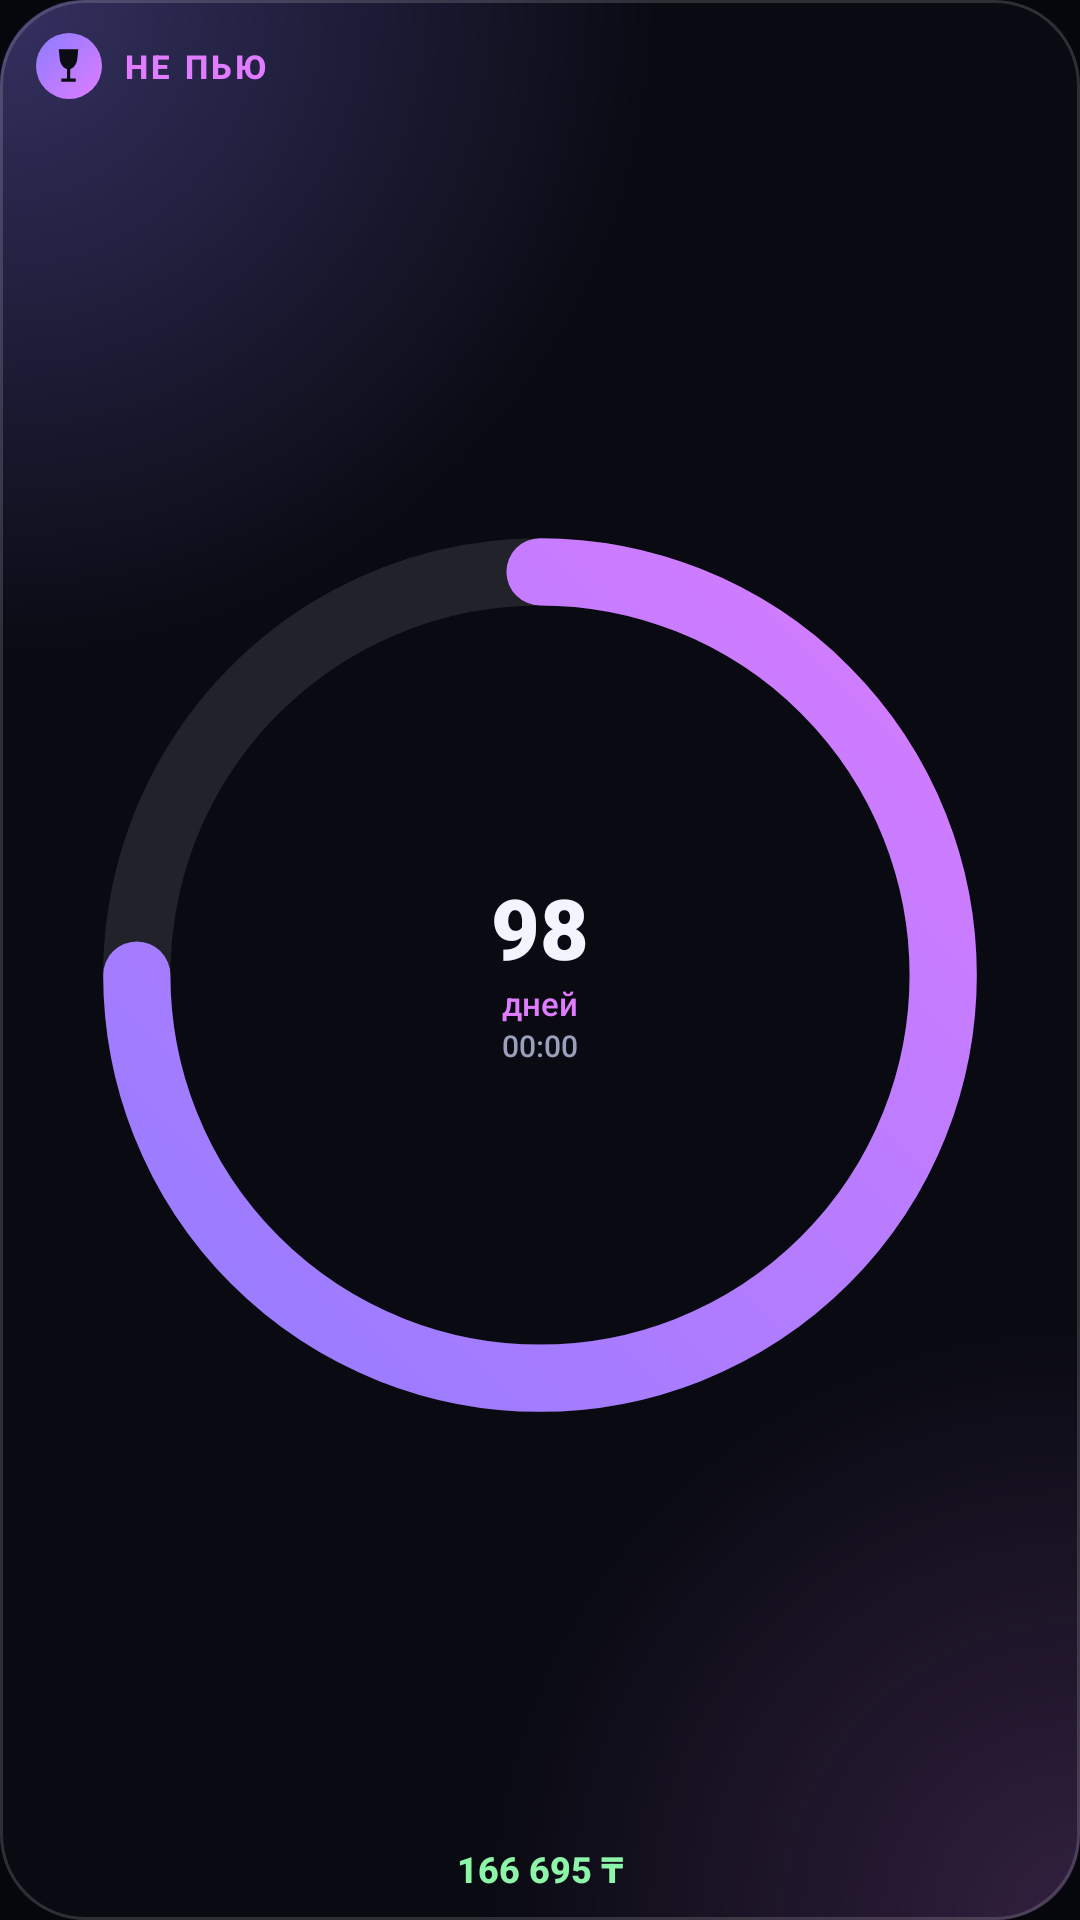

Point at icon controls on the screen. Image size 1080 x 1920, points as (x=x, y=y).
wine: (x=68, y=65)
